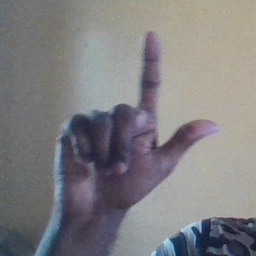L: (47, 28, 219, 215)
